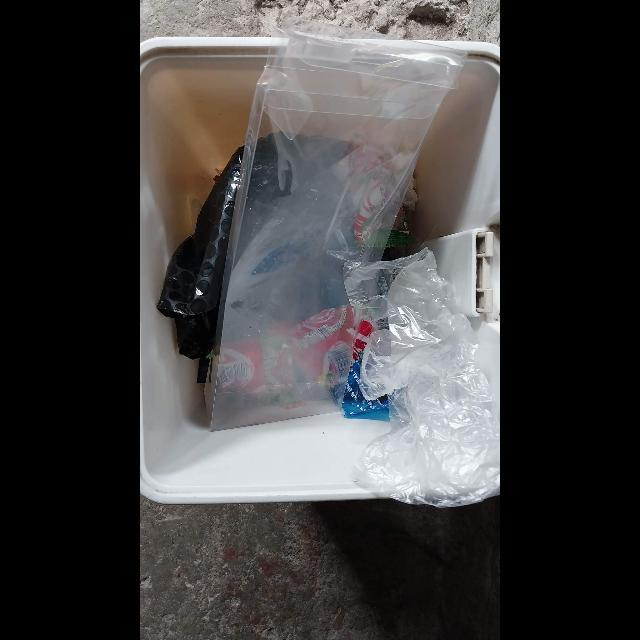plastic: (343, 247, 500, 508)
